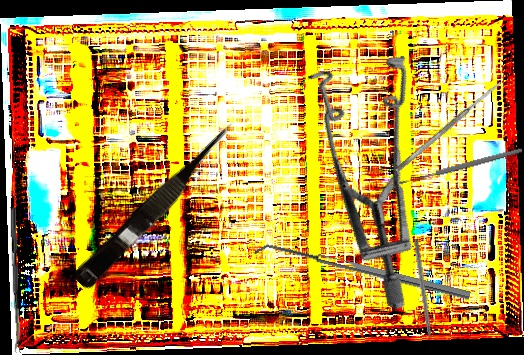Hook Surgical: (412, 238, 435, 354)
Micro Scissor: (71, 115, 246, 296)
Spatula Surgical: (254, 238, 471, 309), (393, 79, 505, 174)
Speculum: (236, 24, 498, 312)
Surgical Spoon: (398, 146, 523, 187), (9, 206, 21, 354)
